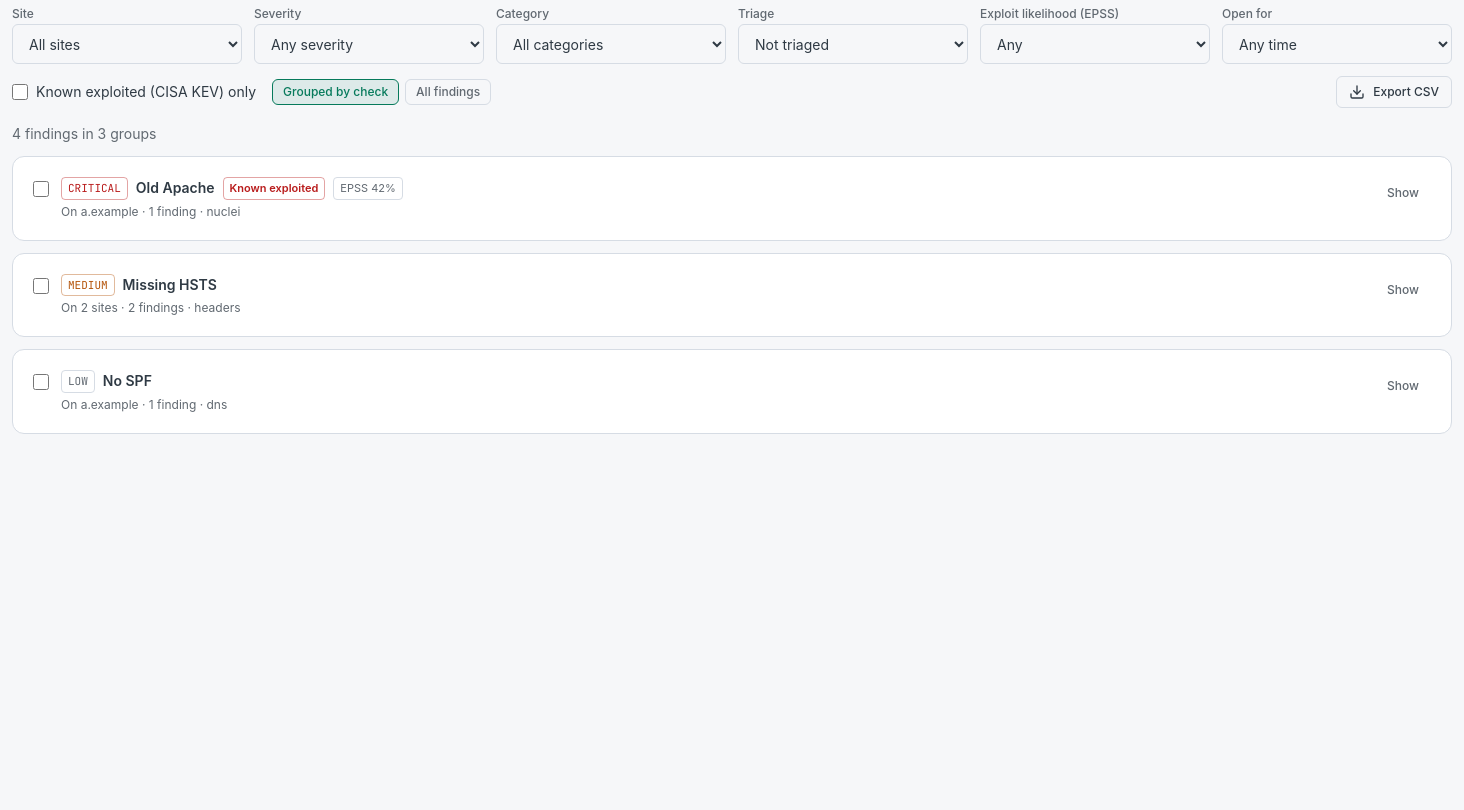
FindingsExplorer › selects a whole group and bulk-accepts it with a reason, through the existing triage API
Expected: the heading "Missing HSTS" is shown, [123,275,217,295]
Click the checkbox named "Select all 2 findings for Missing HSTS": (41, 286) [33,278,49,294]
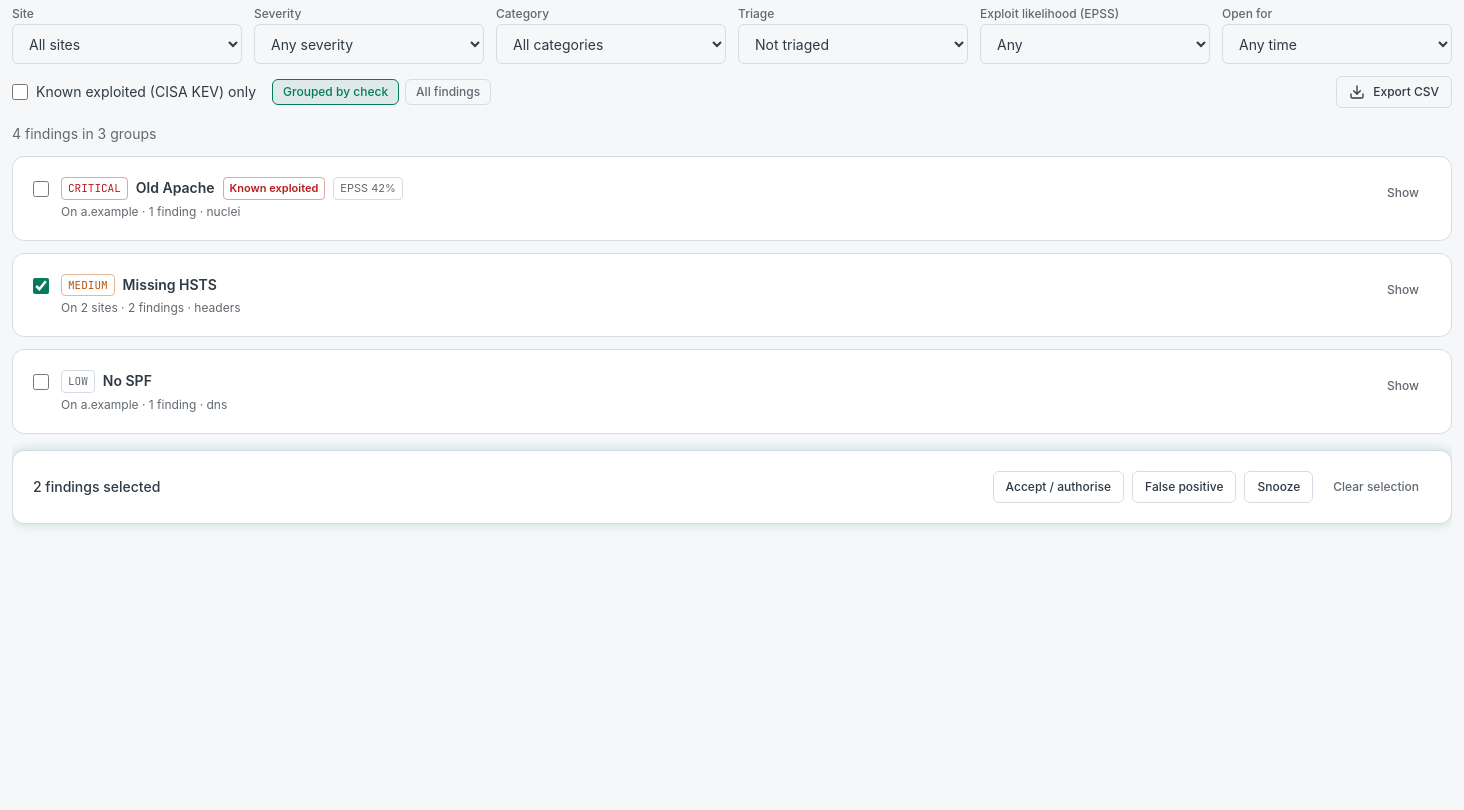
Now the text "2 findings selected" is shown, box [33,476,160,496]
Click the button "Accept / authorise": (1058, 486) [993,470,1124,502]
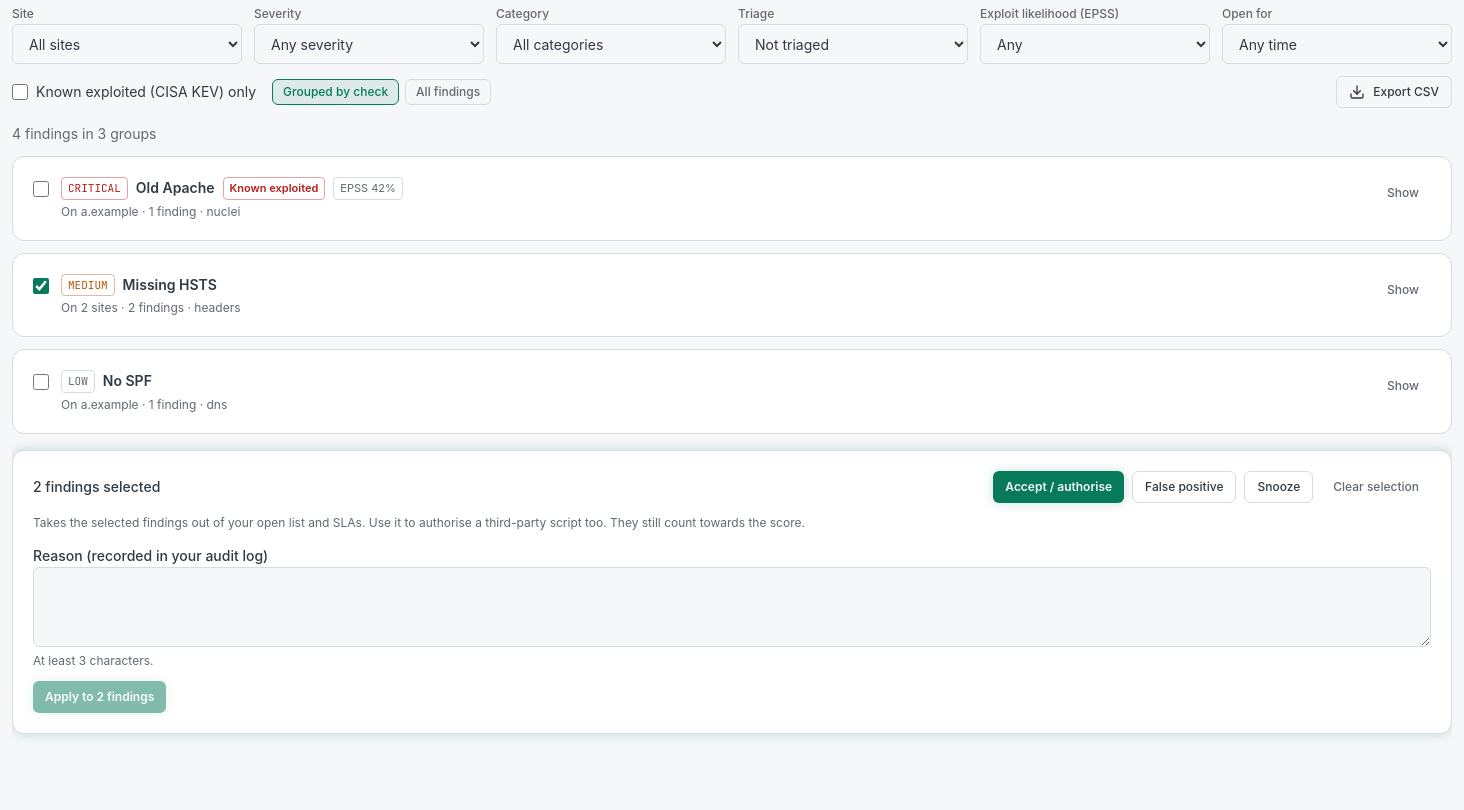
Now the button "Apply to 2 findings" is disabled, box [33,680,166,712]
In the text box labelled "Reason (recorded in your audit log)": (732, 606) [33,566,1431,646], type "ok"
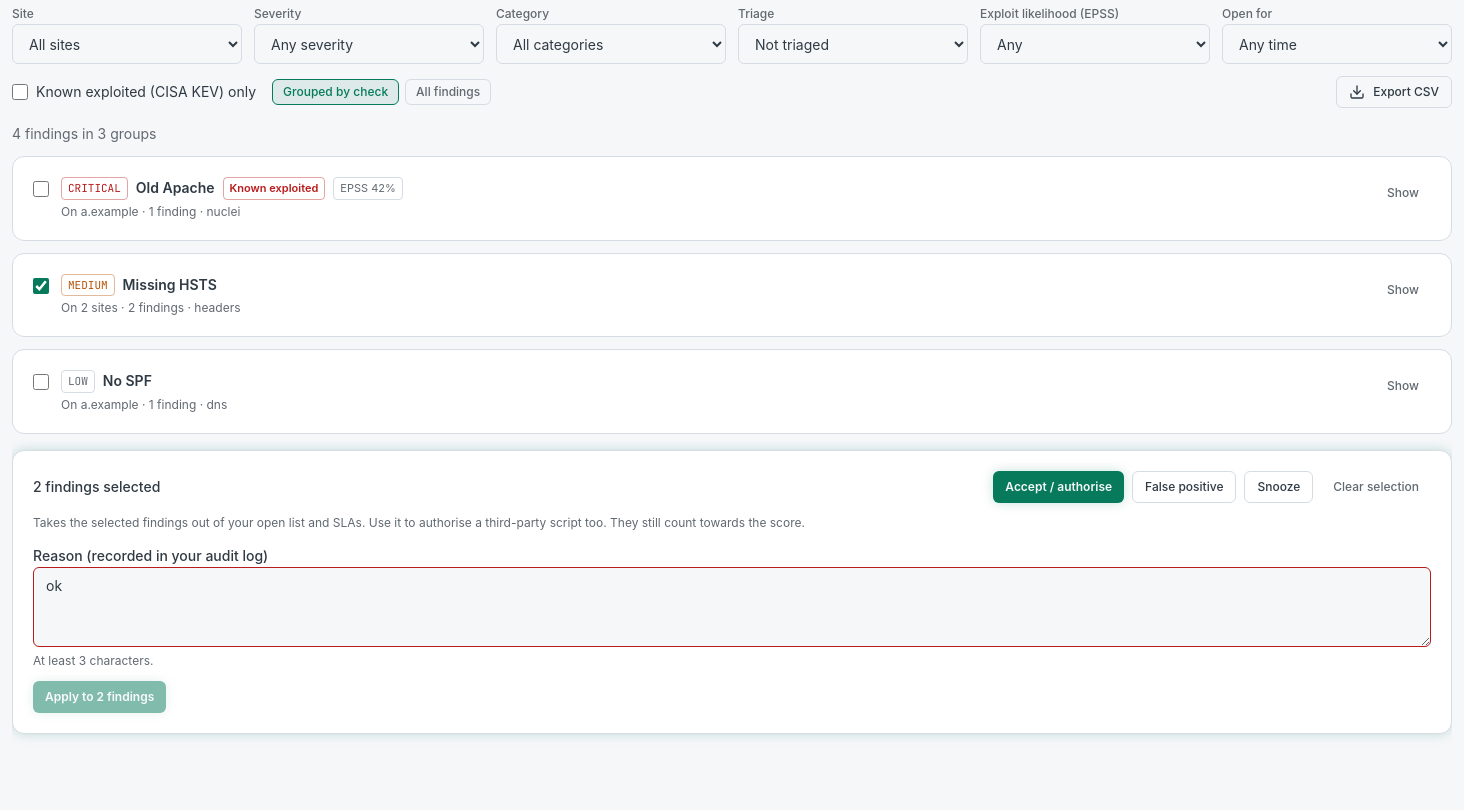
Now the button "Apply to 2 findings" is disabled, box [33,680,166,712]
Replace the text in the text box labelled "Reason (recorded in your audit log)" with "Reviewed, all first party": (732, 606) [33,566,1431,646]
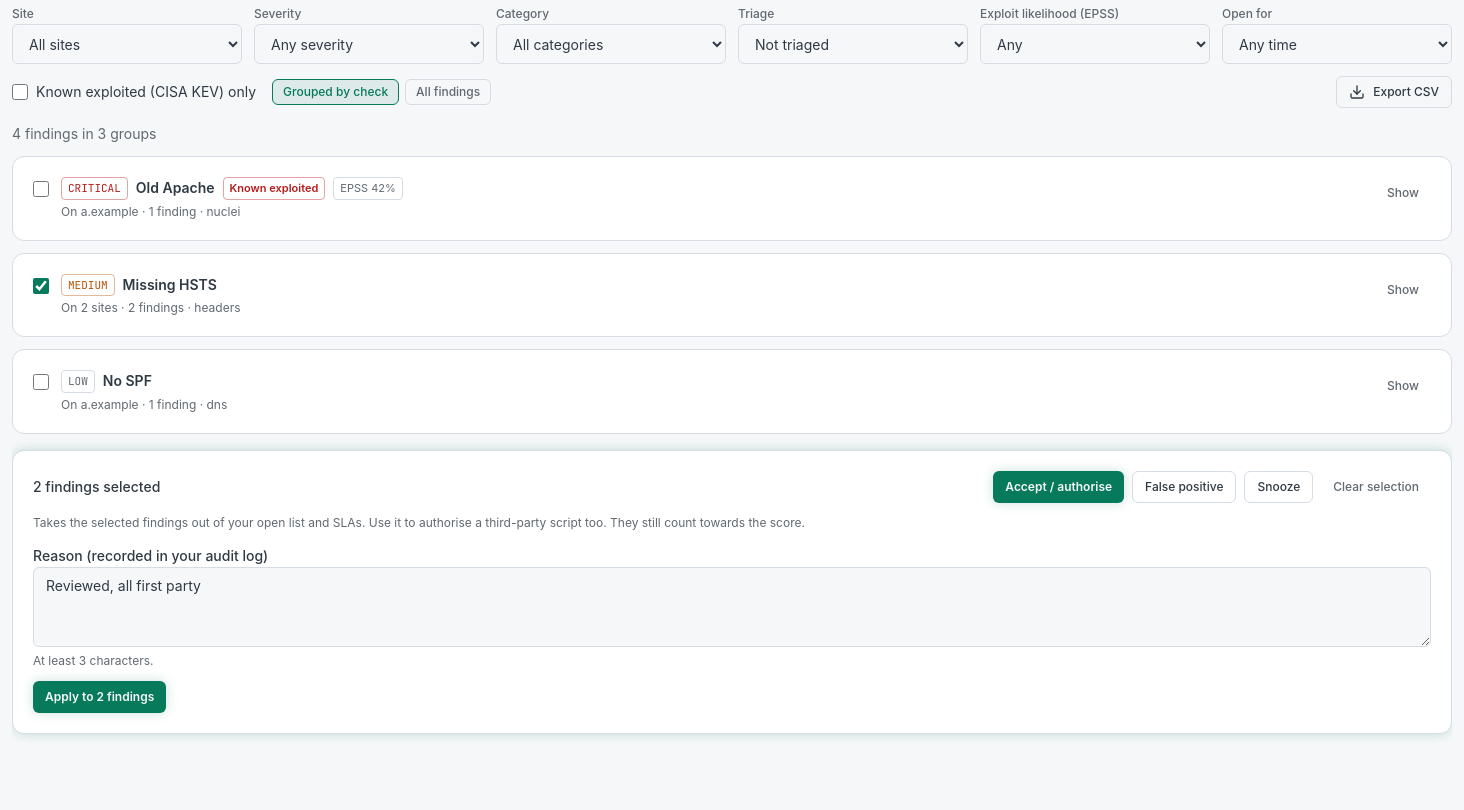
Now the button "Apply to 2 findings" is enabled
Click the button "Apply to 2 findings": (100, 696) [33,680,166,712]
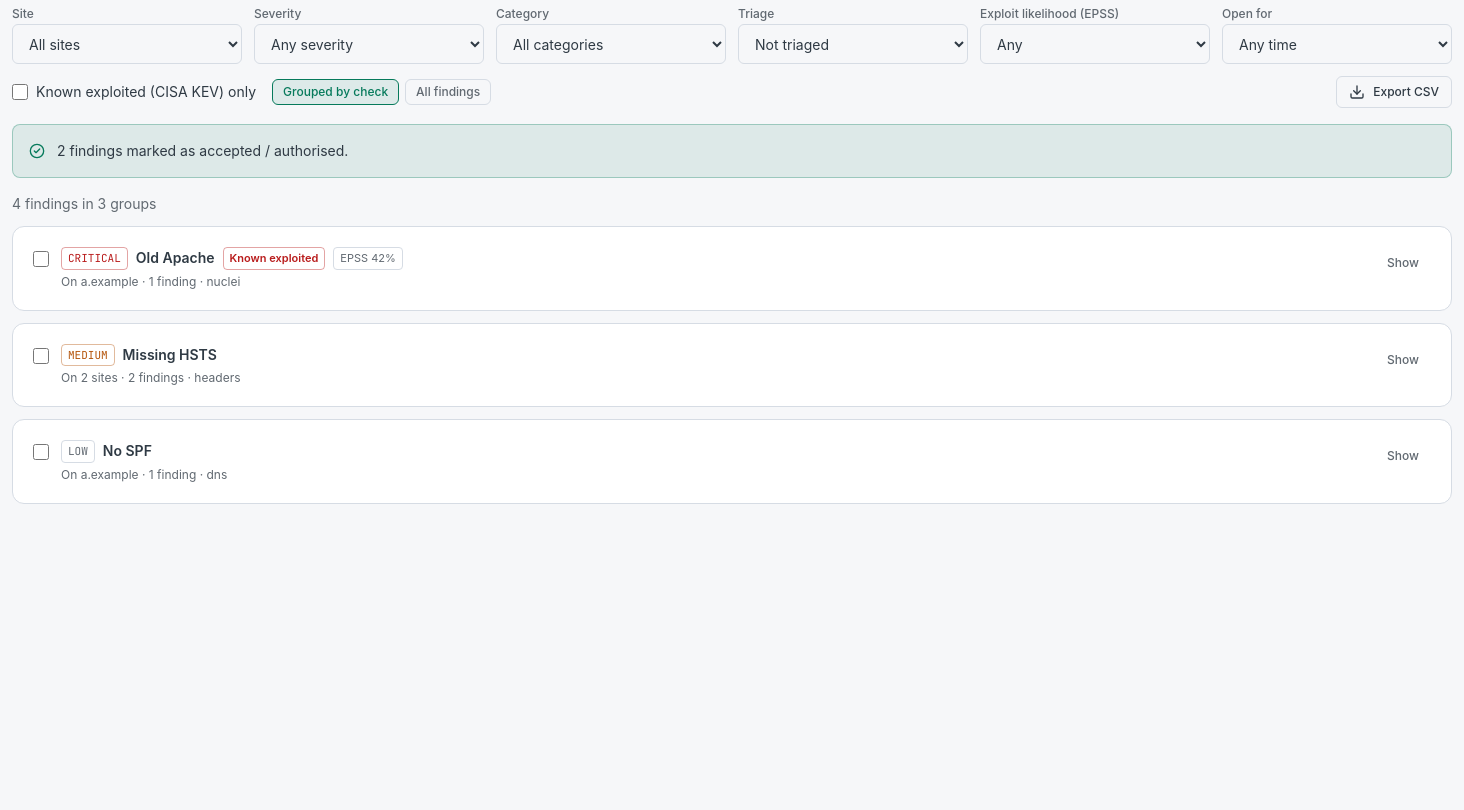
Now the text "2 findings marked as accepted / authorised." is shown, box [57,141,348,161]
Now the text "selected" is gone
